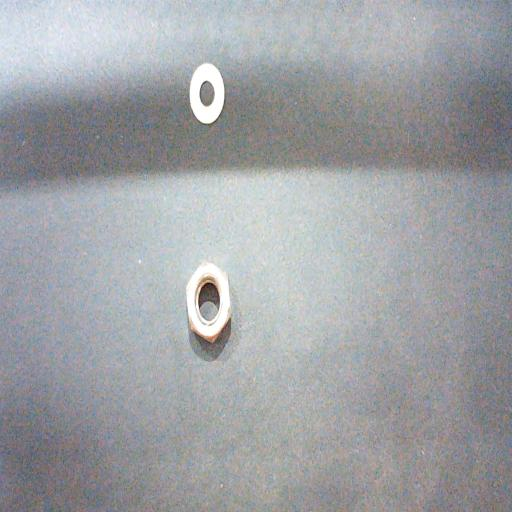nut: (186, 260, 231, 344)
washer: (189, 63, 225, 123)
